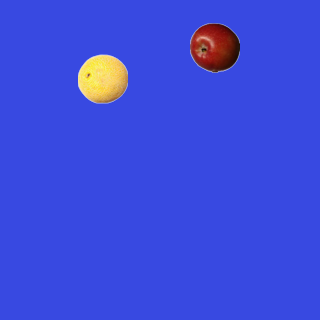Apple Braeburn: (189, 22, 239, 72)
Cantaloupe 1: (77, 53, 127, 103)
